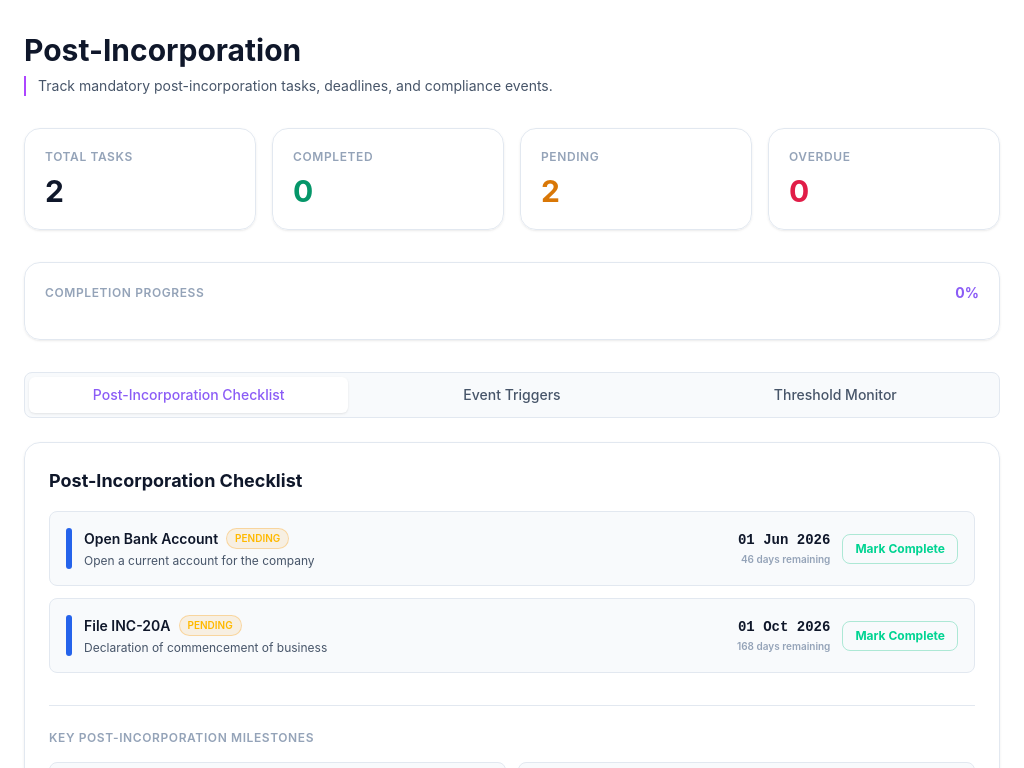
Scenario: PostIncorporationPage › renders the events tab with event types
// Click events tab
Step 1. Click the button "Event Triggers" → (512, 395), box 352,377 -> 672,413
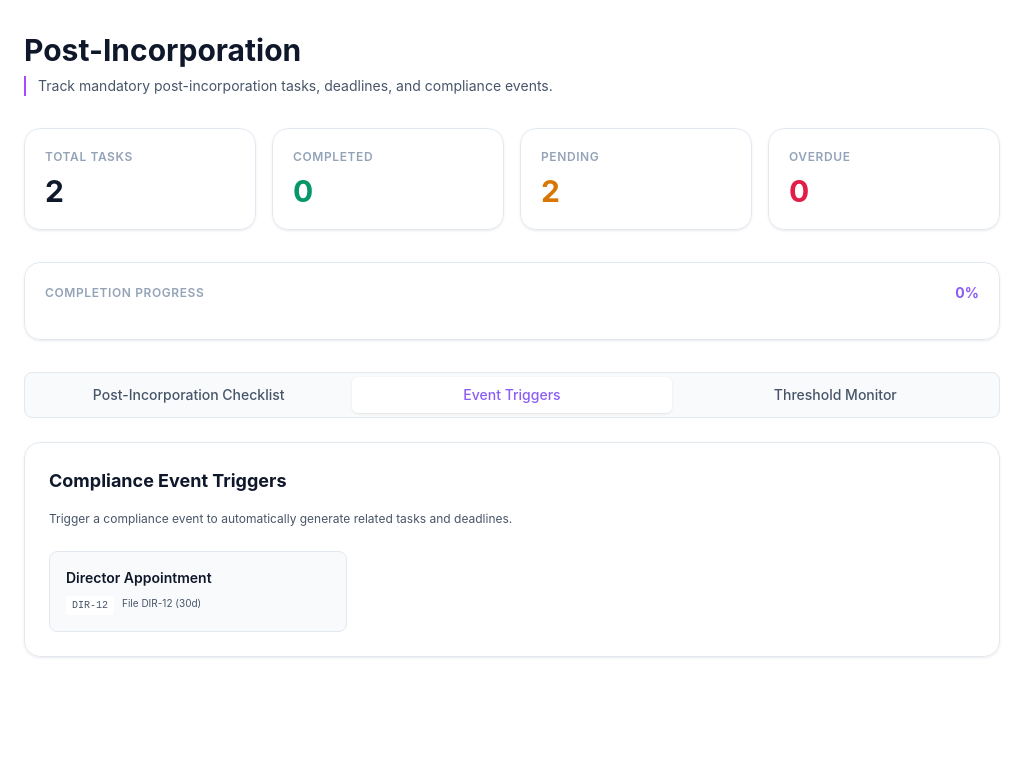
Result: the heading "Compliance Event Triggers" is shown at 49,470 -> 286,491
Result: the heading "Director Appointment" is shown at 66,569 -> 212,586
